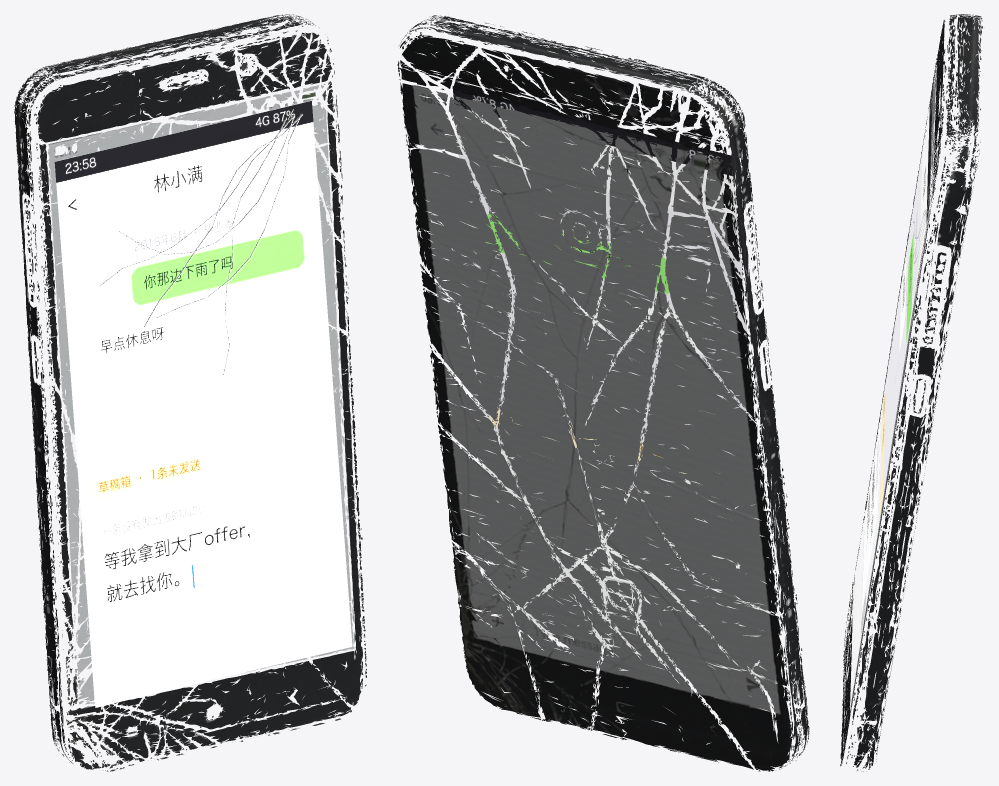
File: hi3d-cracked-phone.glb
3 views of the same model, side by side, from view 1: azimuth 30°, elevation 25°; view 2: azimuth 150°, elevation 25°; view 3: azimuth 270°, elevation 25° (orthographic). The views are drawn at different scales.
Parts seen in each view (by area): view 1: screen_draft_message, world; view 2: world, screen_draft_message; view 3: world, screen_draft_message.
Boxes of the visible parts, x1,y1,x2,y2 form: screen_draft_message: (54,100,352,707); world: (14,14,366,771); world: (397,15,809,771); screen_draft_message: (452,86,776,689); world: (840,14,982,771); screen_draft_message: (850,84,932,708).
Size of the model in its own units: 0.504 by 1 by 0.202.
2 materials, 2 textured.
